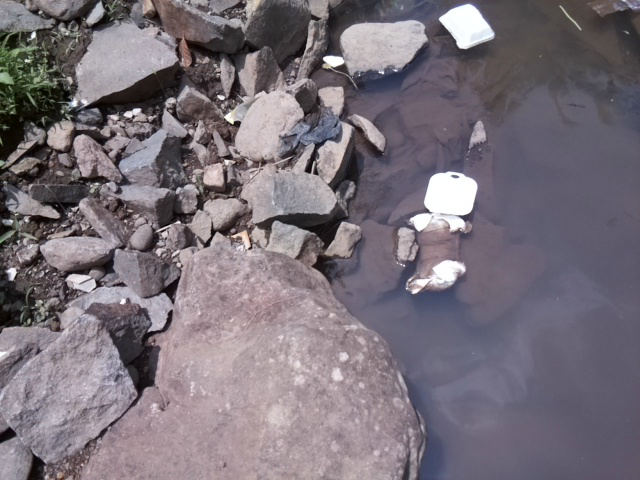Sampah_Styrofoam: (433, 1, 498, 52), (424, 164, 480, 220)
